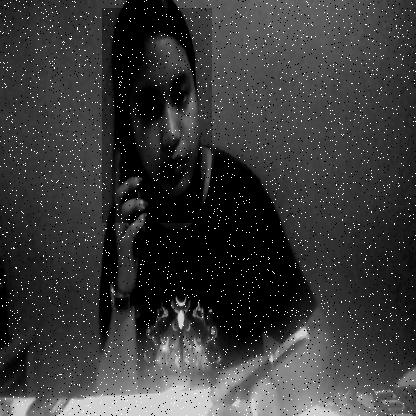Normal: (102, 8, 212, 223)
